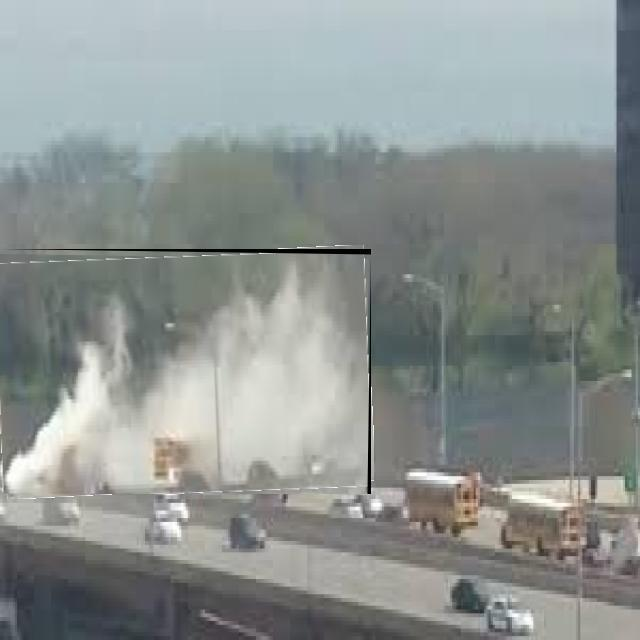smoke: (137, 260, 366, 488), (5, 302, 136, 498)
